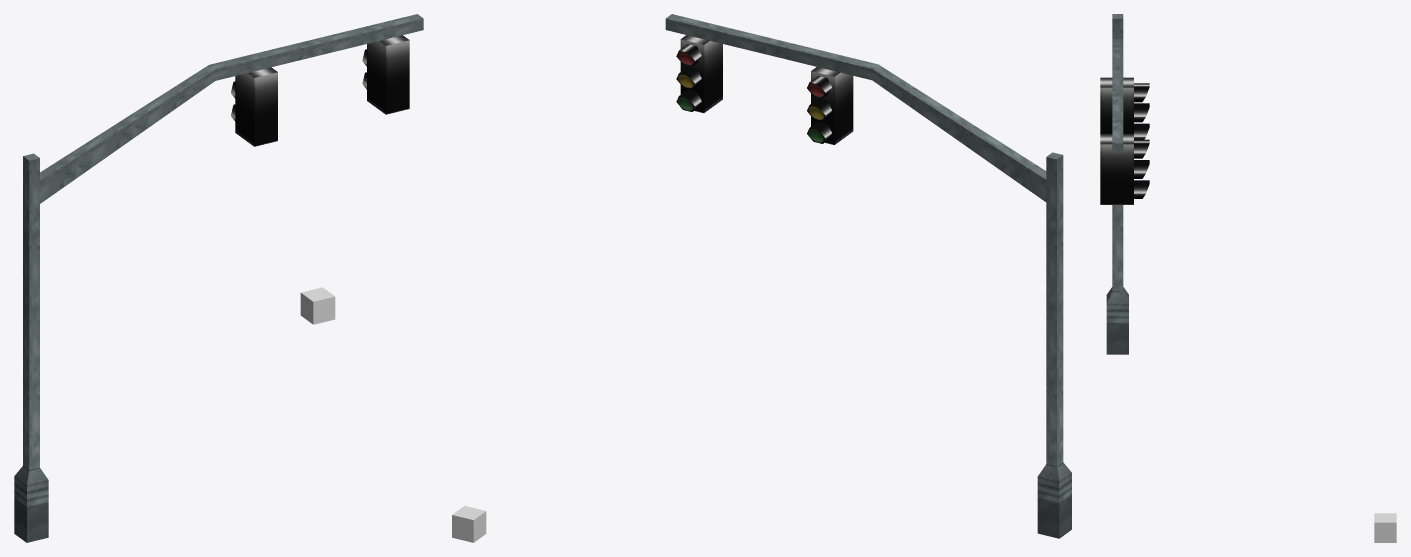
Rendered from slight01.FBX.
3 renders of one model, left to right at view 1: azimuth 30°, elevation 25°; view 2: azimuth 150°, elevation 25°; view 3: azimuth 270°, elevation 25°, orthographic. The views are drawn at different scales.
Parts seen in each view (by area): view 1: slight01, obj76, hp_dummyroot; view 2: slight01, obj76, hp_dummyroot; view 3: obj76, slight01, hp_dummyroot.
Part boxes in pixels (x1,y1,x2,y2): slight01: [14, 14, 423, 542]; obj76: [231, 35, 409, 146]; hp_dummyroot: [300, 287, 335, 324]; slight01: [665, 14, 1071, 538]; obj76: [676, 35, 853, 144]; hp_dummyroot: [452, 505, 486, 542]; obj76: [1100, 77, 1149, 204]; slight01: [1106, 14, 1128, 354]; hp_dummyroot: [1374, 513, 1396, 542].
Size of what is drawn, in the model's own units: 21 by 13.28 by 18.5.
